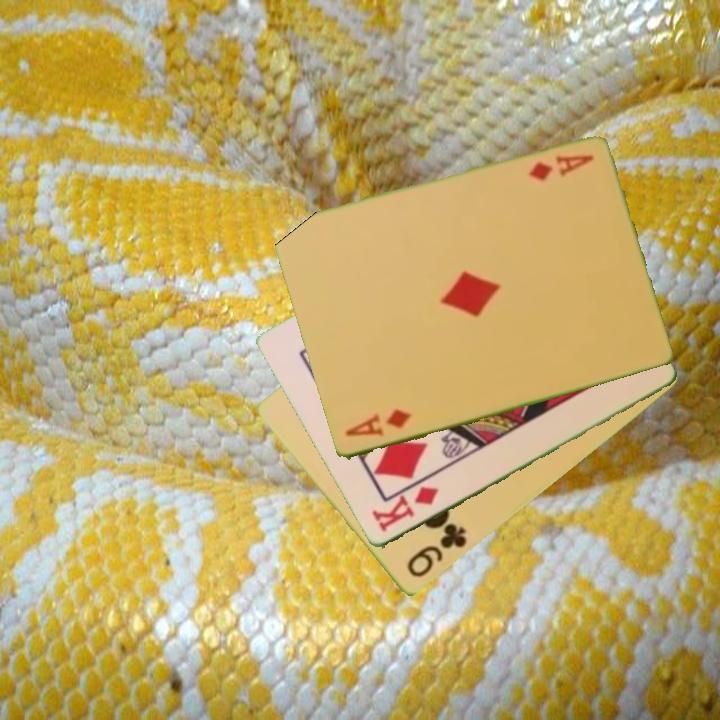9c: (403, 520, 470, 581)
Ad: (341, 406, 414, 440), (524, 152, 597, 184)
Kd: (369, 483, 442, 535)
